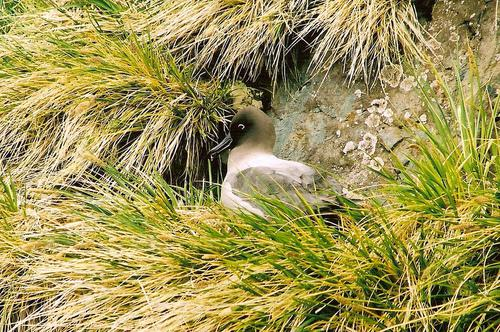003.Sooty_Albatross: (211, 107, 359, 224)
